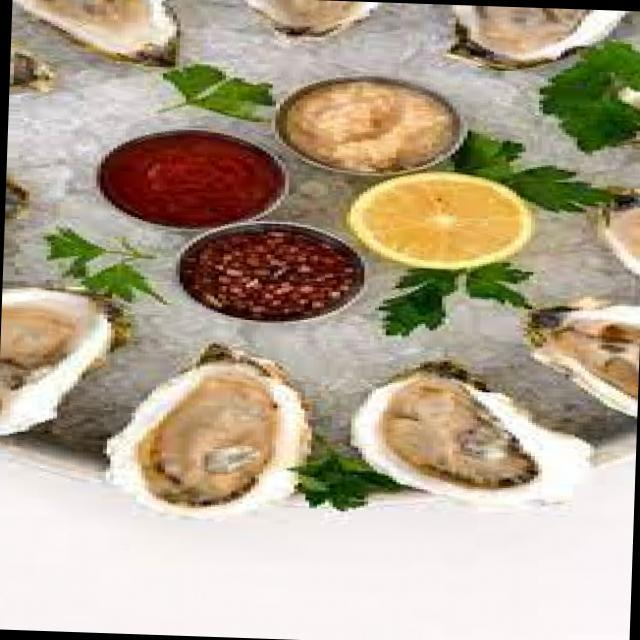Oyster-Open: (108, 344, 311, 517), (351, 370, 592, 506), (0, 0, 231, 82), (0, 288, 111, 434), (452, 0, 640, 69), (528, 305, 640, 416), (248, 0, 376, 36)
